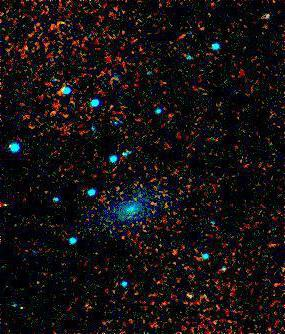star: (40, 95, 70, 125)
